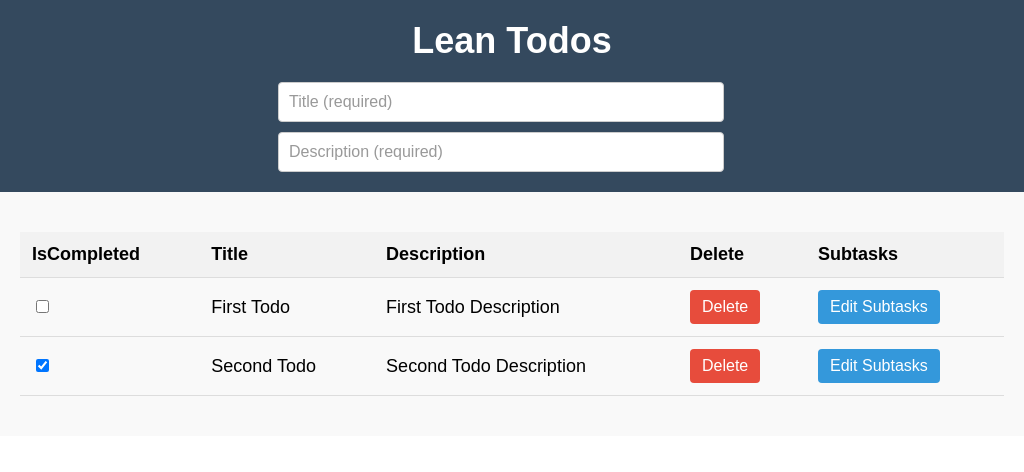
Test: Todos › deletes a task
In the field with test id "newTaskTitle": (501, 102) x1=278 y1=82 x2=724 y2=122, type "Third Todo"
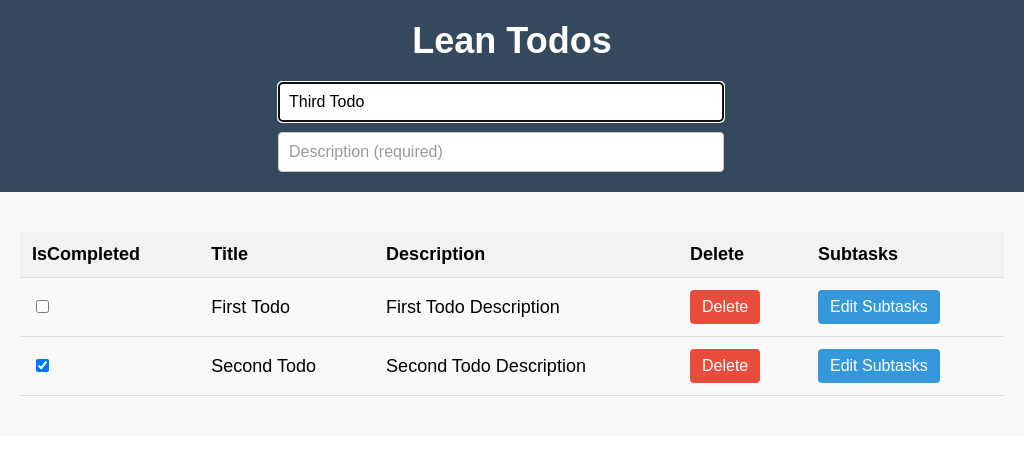
In the field with test id "newDescription": (501, 152) x1=278 y1=132 x2=724 y2=172, type "Third Todo Description"
Then press Enter
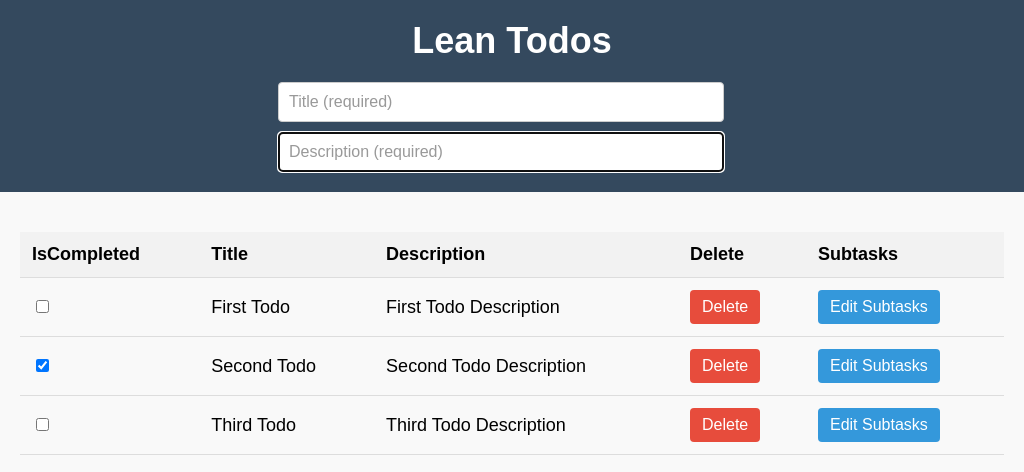
Expected: the number of rows with test id "tasks" is 3, x1=20 y1=278 x2=1004 y2=336; x1=20 y1=336 x2=1004 y2=396; x1=20 y1=396 x2=1004 y2=454
Click the button with test id "deleteTaskButton" next to "Third Todo Description": (725, 425) x1=690 y1=408 x2=760 y2=442
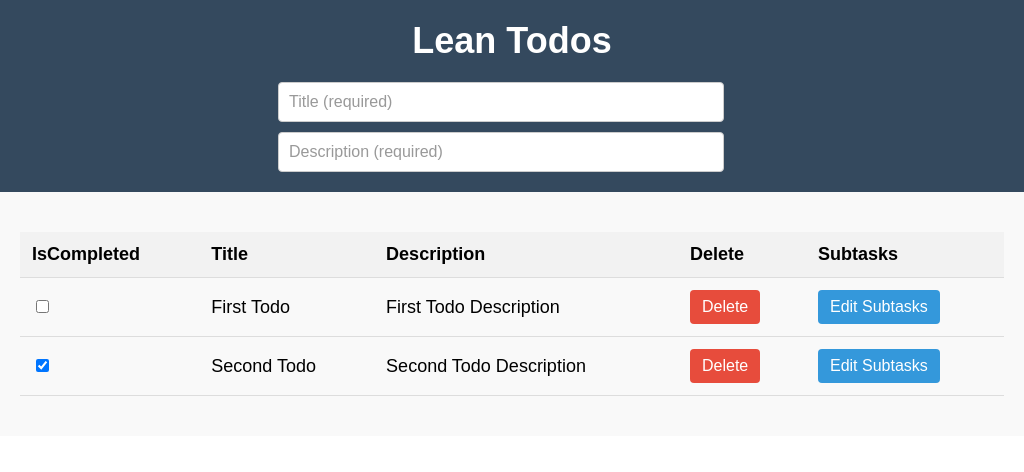
Expected: the number of rows with test id "tasks" is 2, x1=20 y1=278 x2=1004 y2=336; x1=20 y1=336 x2=1004 y2=396
